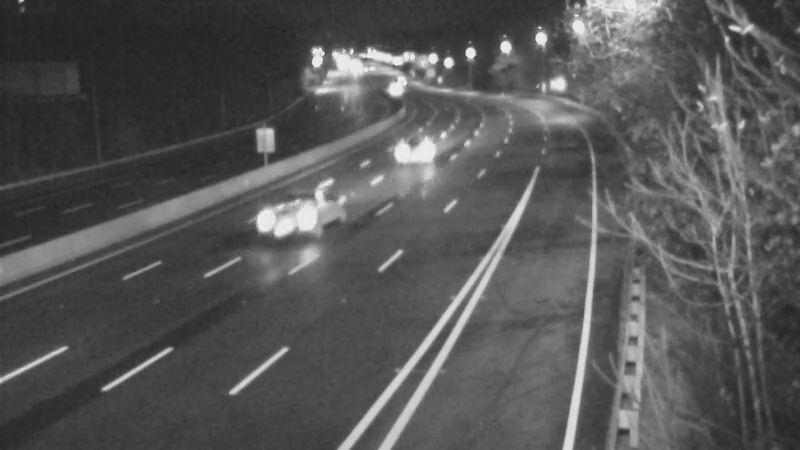vehicle: (242, 185, 322, 265), (389, 123, 439, 173)
